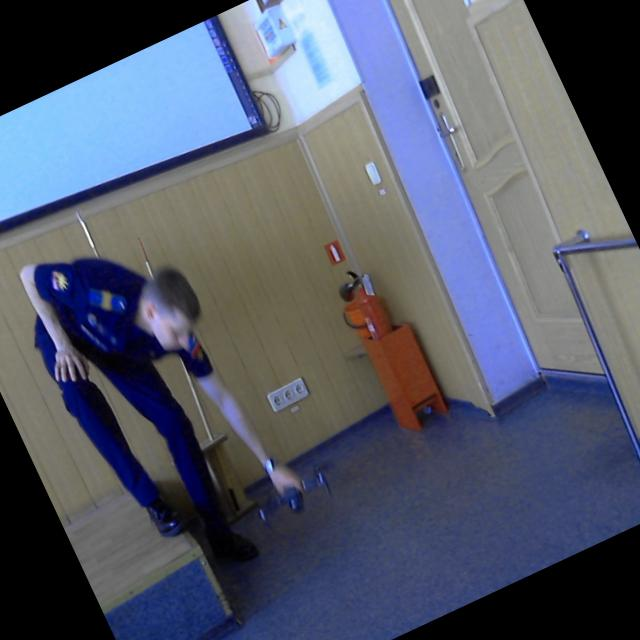drone: (232, 449, 348, 544)
